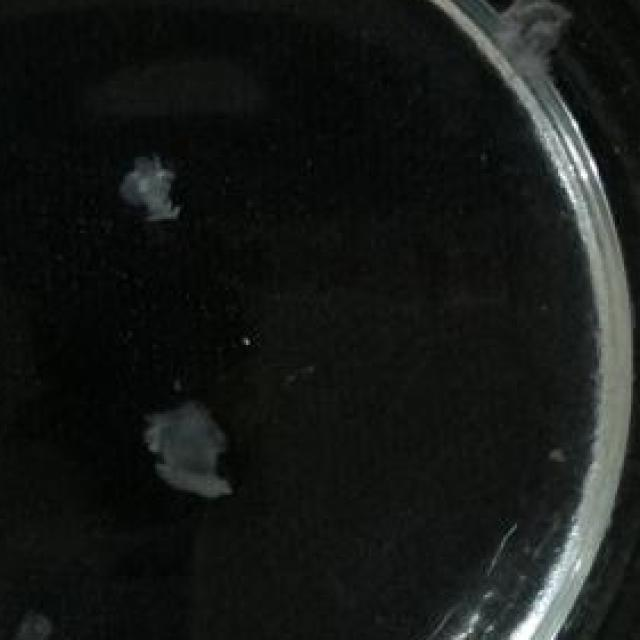Microplastic: (127, 383, 237, 502), (485, 0, 579, 95), (112, 138, 194, 214), (0, 595, 61, 640)
